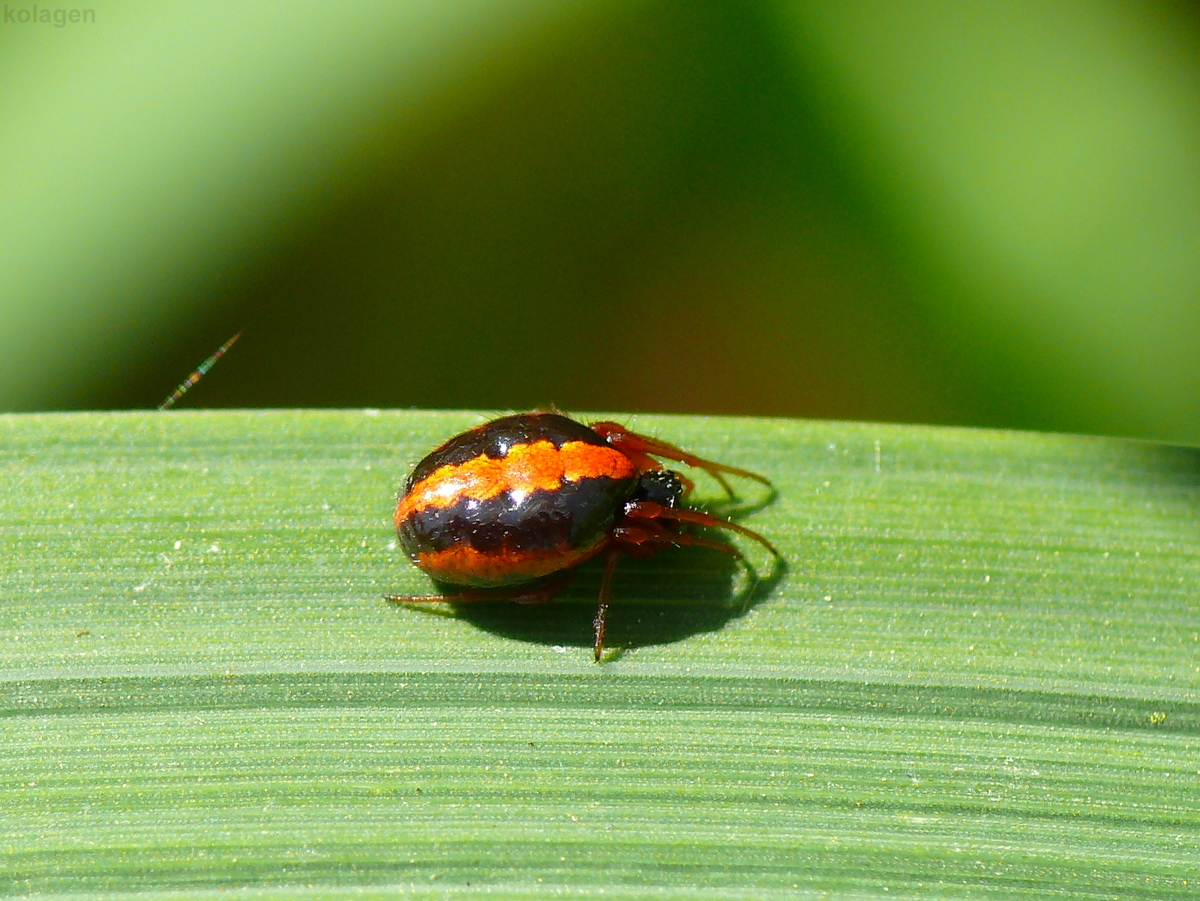spider: (375, 369, 801, 684)
